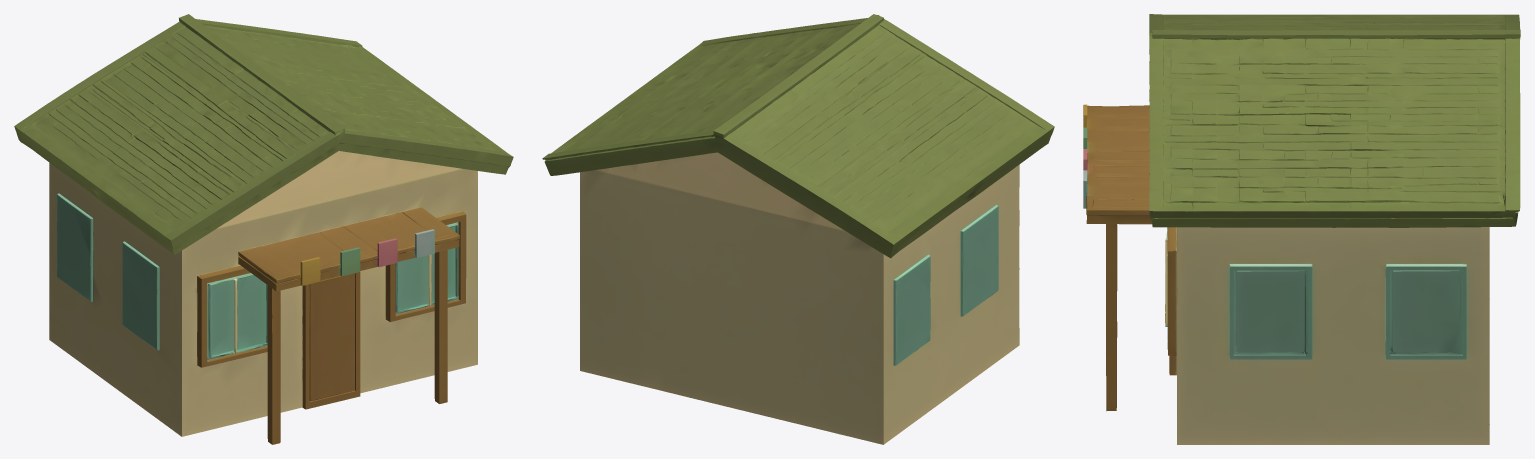
The model's file is source.glb.
The picture shows the model from 3 angles, left to right: view 1: azimuth 30°, elevation 25°; view 2: azimuth 150°, elevation 25°; view 3: azimuth 270°, elevation 25°; orthographic projection. The views are drawn at different scales.
Visible parts, largest first — view 1: model; view 2: model; view 3: model.
Boxes of the visible parts, x1=… form: model: x1=14, y1=14, x2=513, y2=444; model: x1=542, y1=14, x2=1054, y2=444; model: x1=1083, y1=14, x2=1520, y2=444.
Bounding box in the file's own units: 1.9 × 1.48 × 1.78.
Materials: 1 (1 with a texture image).
